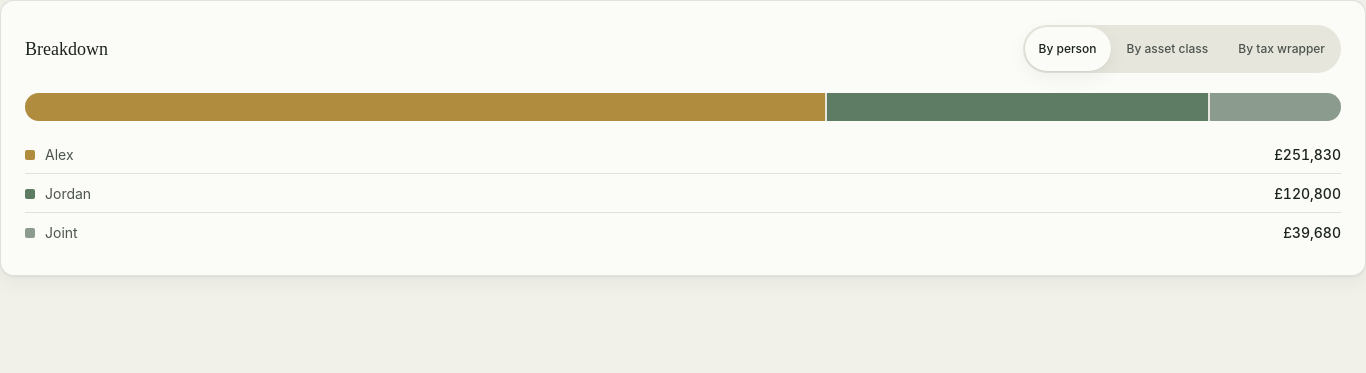
BreakdownPanel › swaps to asset class in place when clicked
Click the tab "By asset class": (1167, 49) left=1112, top=27, right=1222, bottom=71
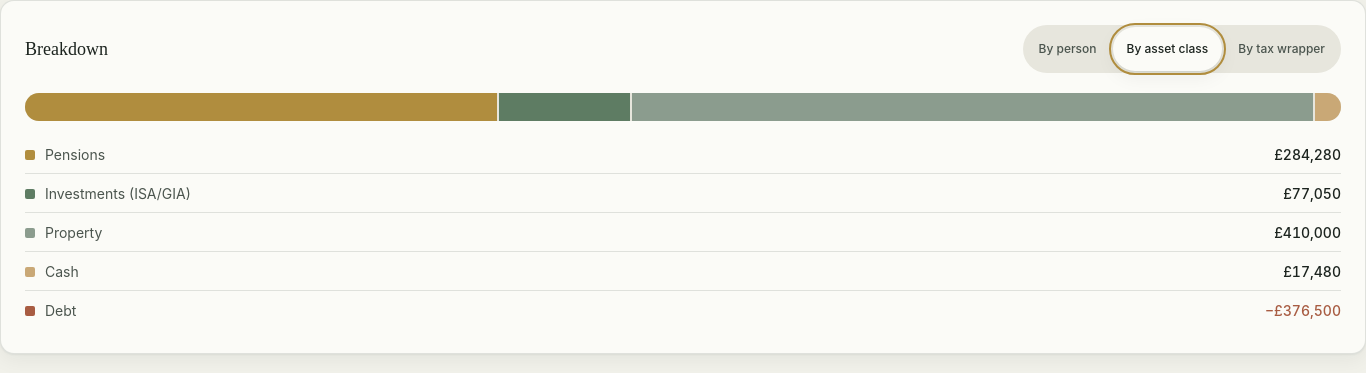
Check: the text "Pensions" is shown, box left=45, top=146, right=105, bottom=163
Check: the text "Investments (ISA/GIA)" is shown, box left=45, top=185, right=191, bottom=202
Check: the text "Alex" is gone
